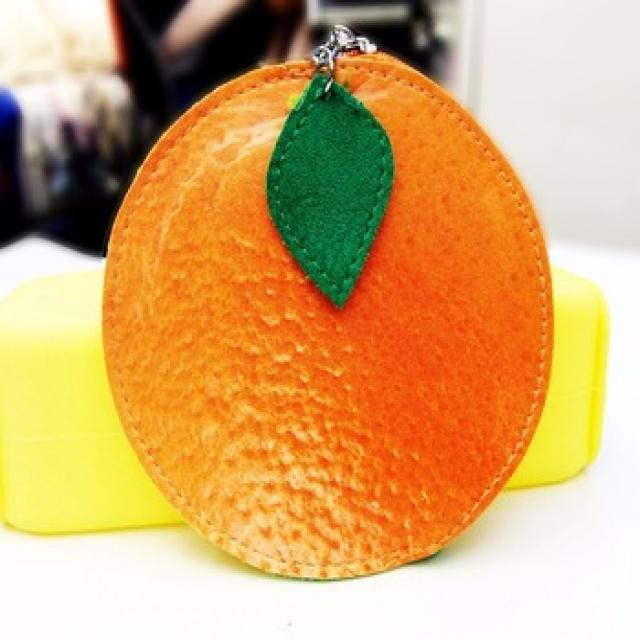orange: (103, 46, 556, 587)
